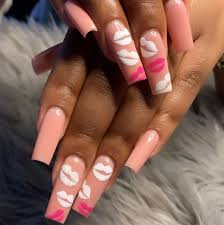nail: (43, 152, 85, 224), (104, 18, 147, 87), (72, 155, 114, 217), (136, 28, 172, 95), (29, 106, 66, 165), (125, 129, 159, 174), (164, 1, 194, 51), (63, 1, 98, 39), (32, 42, 65, 76)
